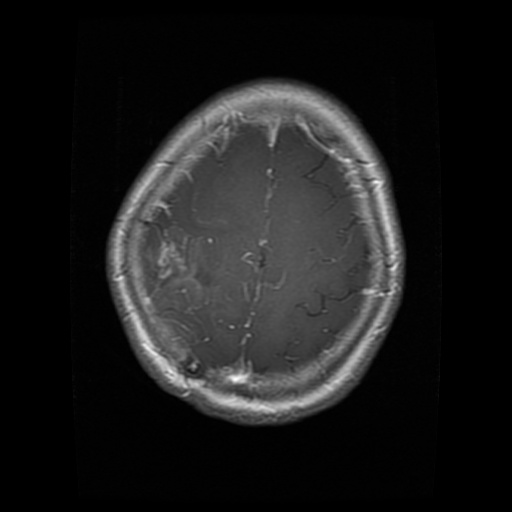glioma: (145, 219, 212, 345)
